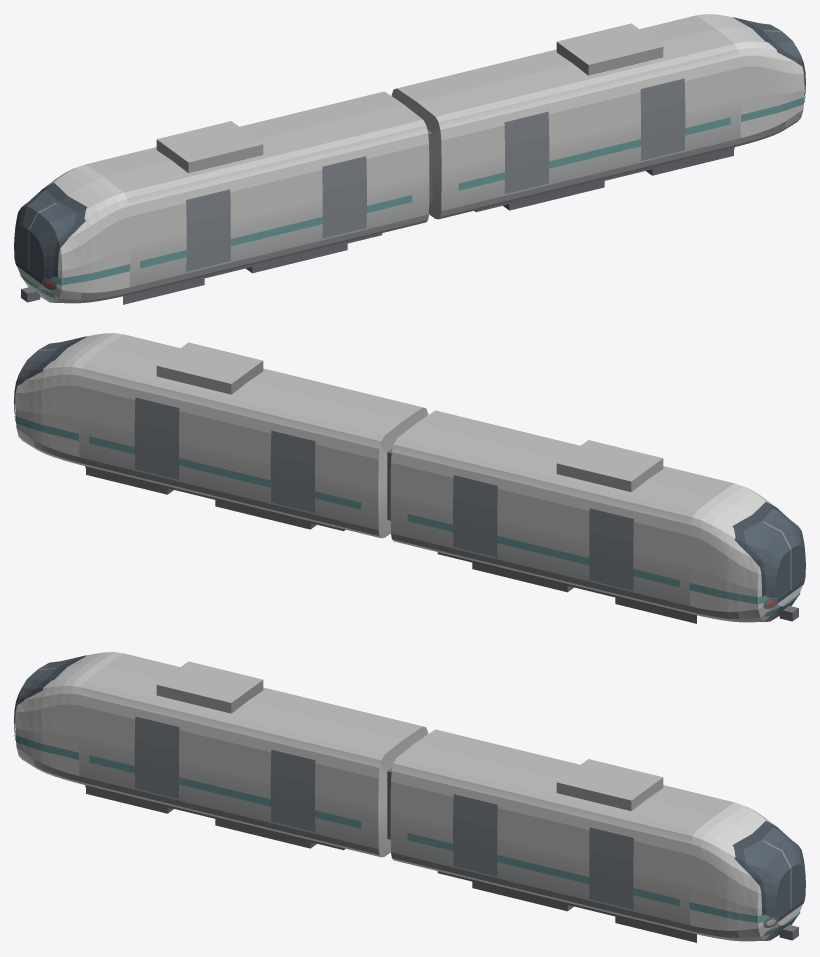
The model's file is 06_more_transit_3x2-02.glb.
3 renders of one model, top to bottom at view 1: azimuth 30°, elevation 25°; view 2: azimuth 150°, elevation 25°; view 3: azimuth 330°, elevation 25°, orthographic.
Size of the model in its own units: 22.68 by 3.48 by 2.64.
